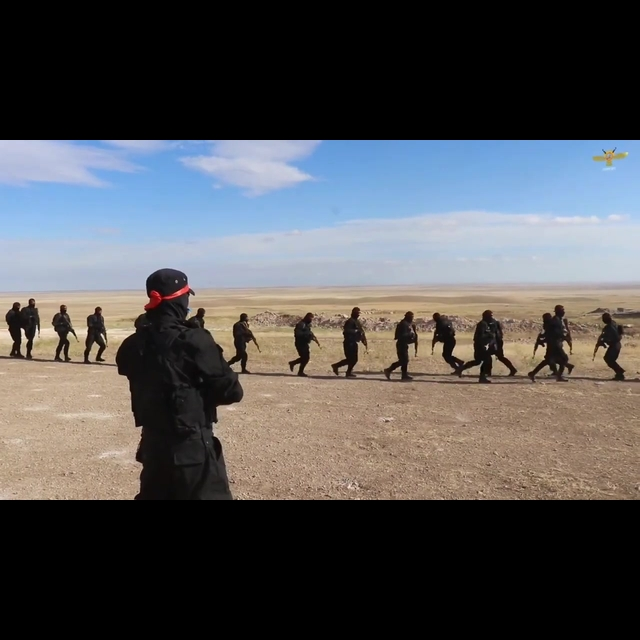AK47: (526, 325, 545, 363), (587, 330, 606, 364), (245, 327, 263, 354), (427, 327, 440, 358)
